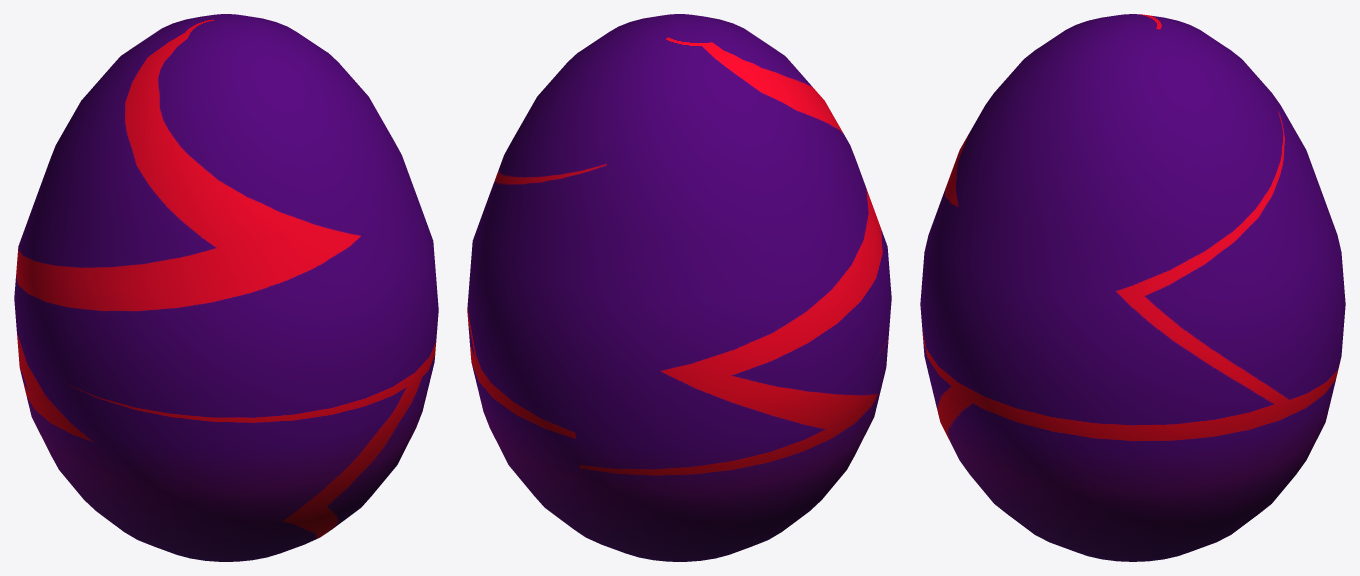
File: egg09.glb
3 views of the same model, side by side, from view 1: azimuth 30°, elevation 25°; view 2: azimuth 150°, elevation 25°; view 3: azimuth 270°, elevation 25° (orthographic).
Visible parts, largest first — view 1: Sphere001; view 2: Sphere001; view 3: Sphere001.
Boxes of the visible parts, x1,y1,x2,y2 form: Sphere001: (14,14,438,561); Sphere001: (467,14,891,561); Sphere001: (920,14,1345,561).
Bounding box in the file's own units: 0.7237 × 0.9744 × 0.7237.
1 material, 1 textured.
